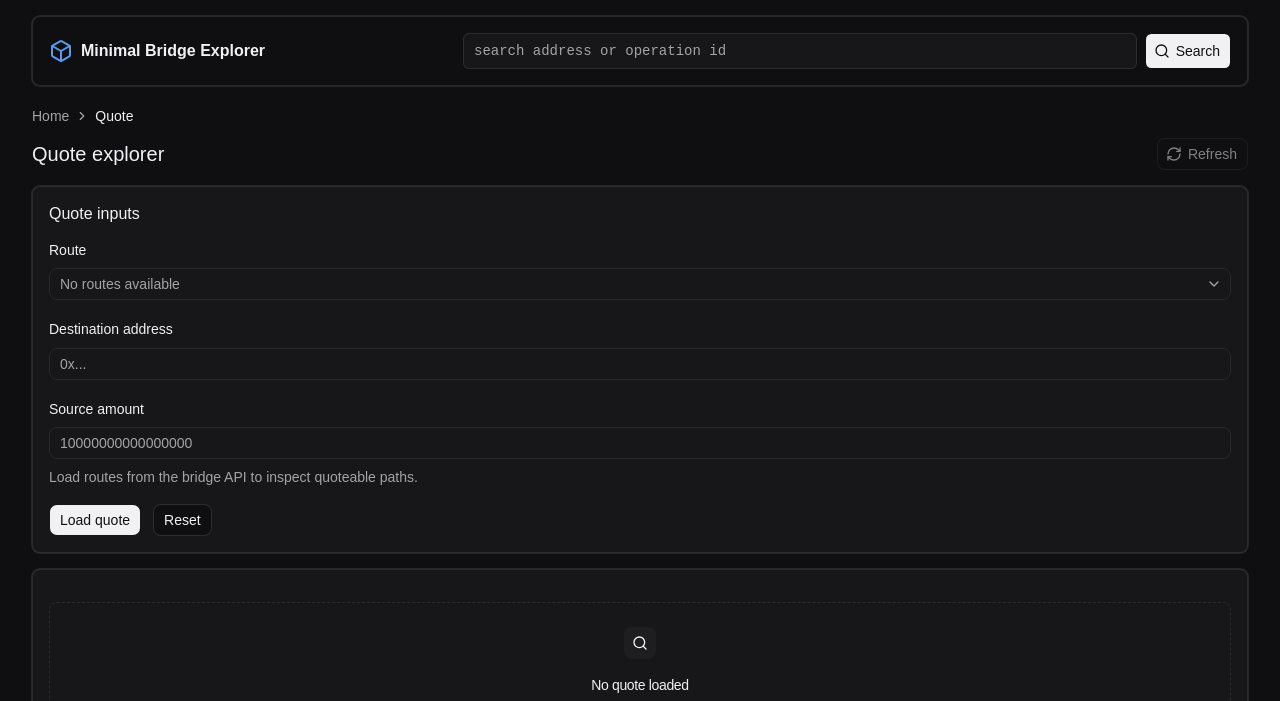
app routes › validates quote inputs before querying
Click the button "Load quote".
click(95, 520)  # box left=49, top=504, right=141, bottom=536
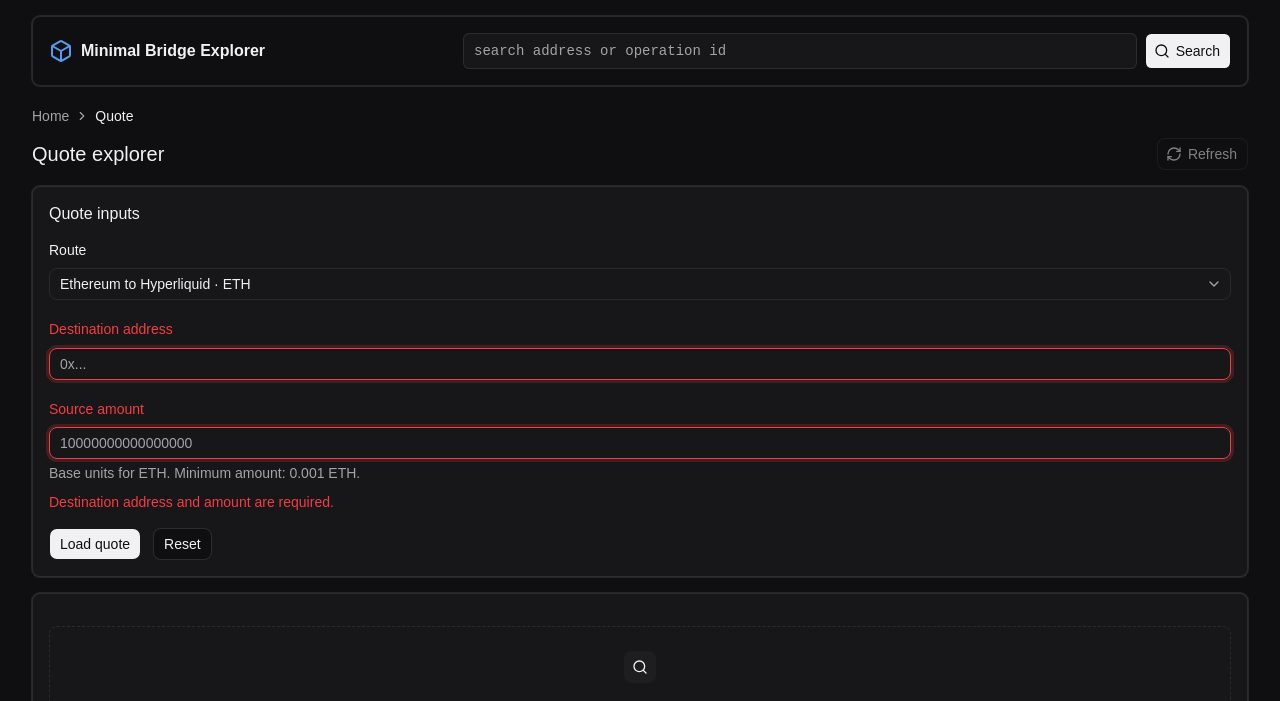
Result: the text "Destination address and amount are required." is shown at left=49, top=494, right=334, bottom=510
